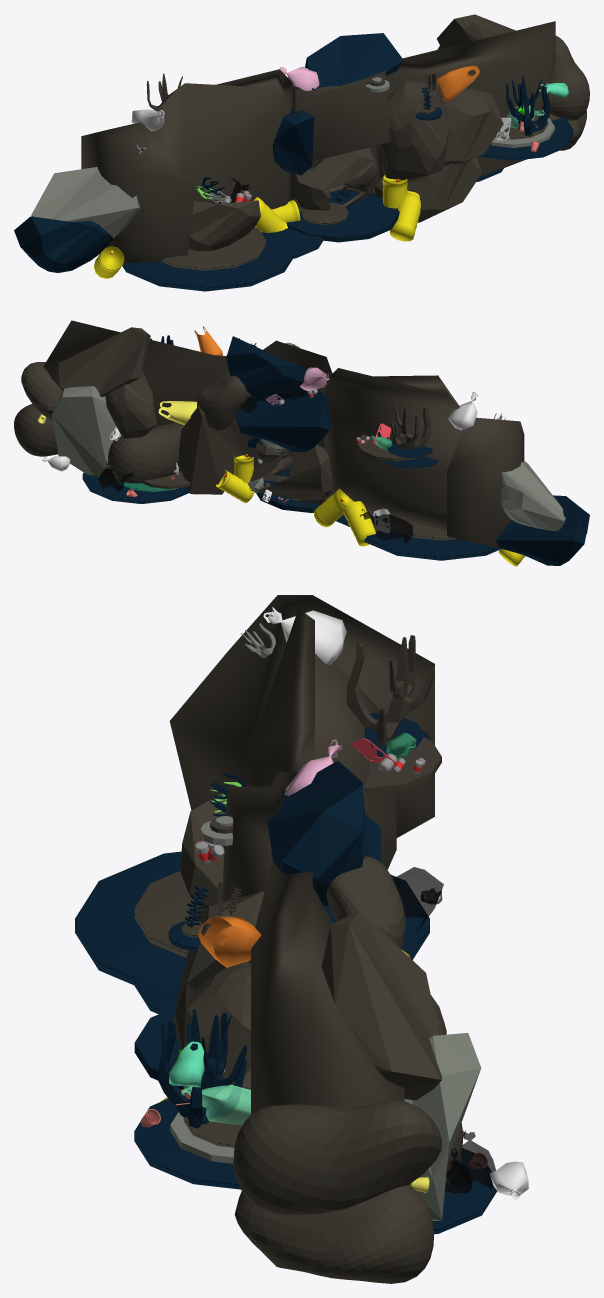
Rendered from paredão.fbx.
The picture shows the model from 3 angles, top to bottom: view 1: azimuth 30°, elevation 25°; view 2: azimuth 150°, elevation 25°; view 3: azimuth 270°, elevation 25°; orthographic projection. The views are drawn at different scales.
Visible parts, largest first — view 1: Cube.001, Icosphere.010, Icosphere.022, Cylinder.015, Icosphere.021, Icosphere.019, Icosphere.004, Icosphere.011, Cylinder.006, Icosphere.014, Icosphere.012, Icosphere.013 (+18 smaller); view 2: Cube.001, Icosphere.017, Icosphere.018, Icosphere.016, Icosphere.020, Icosphere.021, Sphere.001, Icosphere.004, Icosphere.019, Icosphere.022, Cylinder.015, Icosphere.015 (+22 smaller); view 3: Cube.001, Sphere.004, Icosphere.016, Sphere.003, Cylinder.015, Icosphere.019, Icosphere.017, Icosphere.011, Sphere.002, Cylinder.009, Cube.035_Cube.005, Cube.035_Cube.004 (+19 smaller).
Boxes of the visible parts, x1,y1,x2,y2 form: Cube.001: (81,21,555,265); Icosphere.010: (379,80,449,181); Icosphere.022: (31,167,140,237); Cylinder.015: (122,229,296,291); Icosphere.021: (14,216,113,272); Icosphere.019: (305,33,403,90); Icosphere.004: (291,147,378,212); Icosphere.011: (443,88,503,165); Cylinder.006: (286,189,399,242); Icosphere.014: (188,200,260,251); Icosphere.012: (374,157,481,222); Icosphere.013: (272,110,313,175); Cube.001: (43,320,524,549); Icosphere.017: (52,386,115,477); Icosphere.018: (235,391,330,452); Icosphere.016: (58,327,150,396); Icosphere.020: (178,405,249,494); Icosphere.021: (496,495,589,565); Sphere.001: (108,422,184,483); Icosphere.004: (249,444,332,504); Icosphere.019: (226,336,307,402); Icosphere.022: (501,461,565,531); Cylinder.015: (364,515,500,560); Icosphere.015: (105,371,156,438); Cube.001: (169,595,434,1114); Sphere.004: (233,1100,441,1215); Icosphere.016: (321,910,441,1100); Sphere.003: (234,1185,434,1283); Cylinder.015: (75,851,429,985); Icosphere.019: (267,761,368,906); Icosphere.017: (404,1033,481,1220); Icosphere.011: (184,962,250,1085); Sphere.002: (326,856,405,949); Cylinder.009: (134,1093,240,1189); Cube.035_Cube.005: (346,635,434,746); Cube.035_Cube.004: (158,1013,246,1128).
Size of the model in its own units: 14472 by 4410 by 5113.
